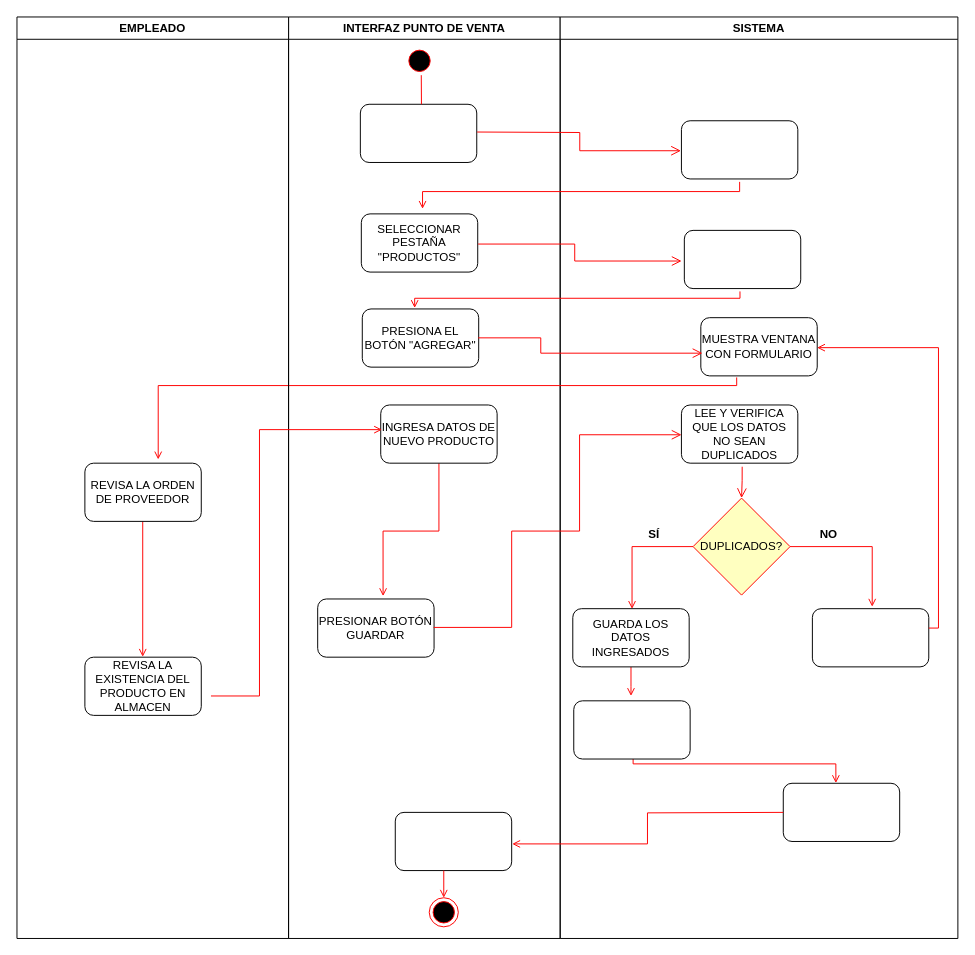
The diagram is 975 pixels wide and 955 high, and some of its shapes have lost their labels. The shapes that lost their labels are listed below. From the top down, each one's centre as x and y in pixels, then its label:
At point (418, 132): "INICIAR SESIÓN COMO ADMINISTRADOR".
At point (739, 149): "MUESTRA INTERFAZ DE PUNTO DE VENTA".
At point (742, 259): "MUESTRA SECCIÓN DE PRODUCTOS".
At point (870, 637): "MUESTRA MENSAJE DE ERROR EN PANTALLA".
At point (631, 729): "REGISTRA NUEVO PRODUCTO".
At point (841, 811): "MUESTRA MENSAJE DE OPERACIÓN EXITOSA".
At point (453, 841): "PRESIONA EL BOTÓN CONTINUAR".
